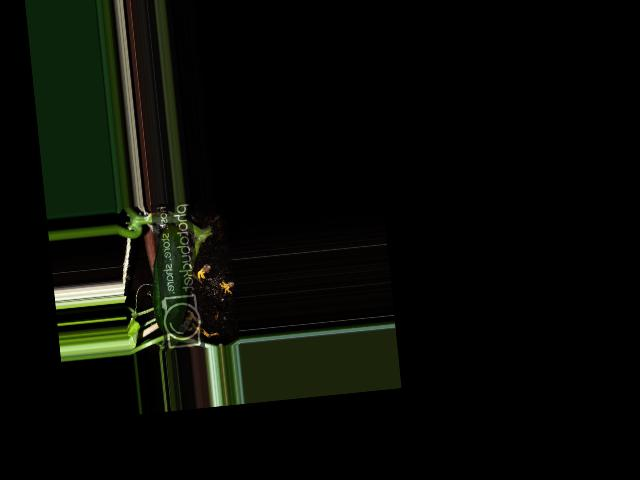cucumber: (145, 224, 195, 333)
